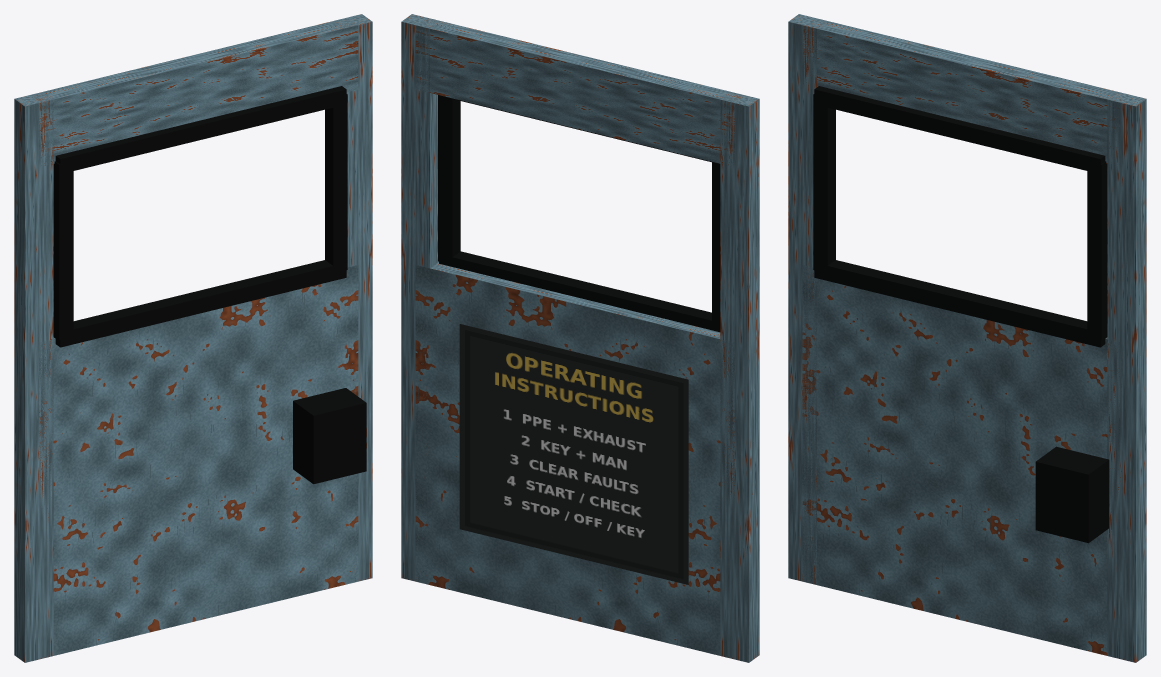
Rendered from Part_DoorPivot.obj.
The picture shows the model from 3 angles, left to right: view 1: azimuth 30°, elevation 25°; view 2: azimuth 150°, elevation 25°; view 3: azimuth 330°, elevation 25°; orthographic projection.
Visible parts, largest first — view 1: DoorBottom, DoorLeft, DoorTop, DoorRight, WindowEdge0.095, DoorHandle, WindowEdge0.5, WindowSide0.76, WindowSide0.09; view 2: DoorBottom, DoorInstructions, DoorTop, DoorLeft, DoorRight, WindowEdge0.095, WindowSide0.76, WindowSide0.09; view 3: DoorBottom, DoorRight, DoorTop, DoorLeft, WindowEdge0.095, DoorHandle, WindowEdge0.5, WindowSide0.09, WindowSide0.76.
Part boxes in pixels (x1=…): DoorBottom: x1=39, y1=265, x2=358, y2=655; DoorLeft: x1=14, y1=92, x2=53, y2=662; DoorTop: x1=29, y1=18, x2=358, y2=166; DoorRight: x1=334, y1=14, x2=372, y2=581; WindowEdge0.095: x1=53, y1=260, x2=346, y2=347; DoorHandle: x1=293, y1=388, x2=366, y2=484; WindowEdge0.5: x1=55, y1=86, x2=346, y2=173; WindowSide0.76: x1=325, y1=94, x2=347, y2=271; WindowSide0.09: x1=53, y1=161, x2=73, y2=340; DoorBottom: x1=415, y1=262, x2=734, y2=655; DoorInstructions: x1=459, y1=324, x2=688, y2=584; DoorTop: x1=415, y1=19, x2=744, y2=166; DoorLeft: x1=720, y1=93, x2=759, y2=662; DoorRight: x1=401, y1=14, x2=439, y2=583; WindowEdge0.095: x1=439, y1=251, x2=720, y2=332; WindowSide0.76: x1=438, y1=95, x2=460, y2=264; WindowSide0.09: x1=712, y1=162, x2=720, y2=329; DoorBottom: x1=802, y1=265, x2=1121, y2=655; DoorRight: x1=1107, y1=92, x2=1146, y2=662; DoorTop: x1=802, y1=17, x2=1129, y2=163; DoorLeft: x1=788, y1=14, x2=826, y2=584; WindowEdge0.095: x1=814, y1=260, x2=1107, y2=347; DoorHandle: x1=1035, y1=446, x2=1109, y2=543; WindowEdge0.5: x1=814, y1=86, x2=1105, y2=172; WindowSide0.09: x1=813, y1=94, x2=835, y2=272; WindowSide0.76: x1=1087, y1=161, x2=1107, y2=340.
Size of the model in its own units: 0.85 by 1.3 by 0.137.
Materials: 3 (2 with a texture image).
